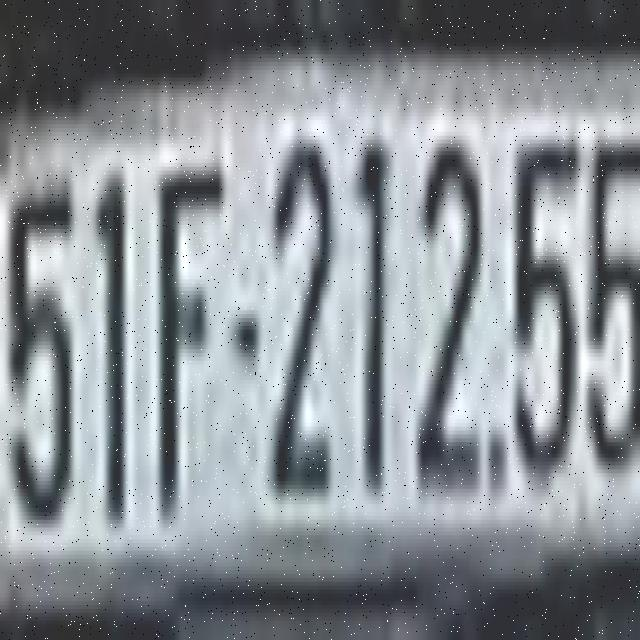1: (94, 153, 130, 526), (352, 120, 387, 497)
2: (414, 120, 482, 497), (269, 122, 332, 506)
5: (6, 163, 77, 531), (512, 112, 579, 485), (587, 118, 640, 479)
F: (157, 138, 225, 518)
